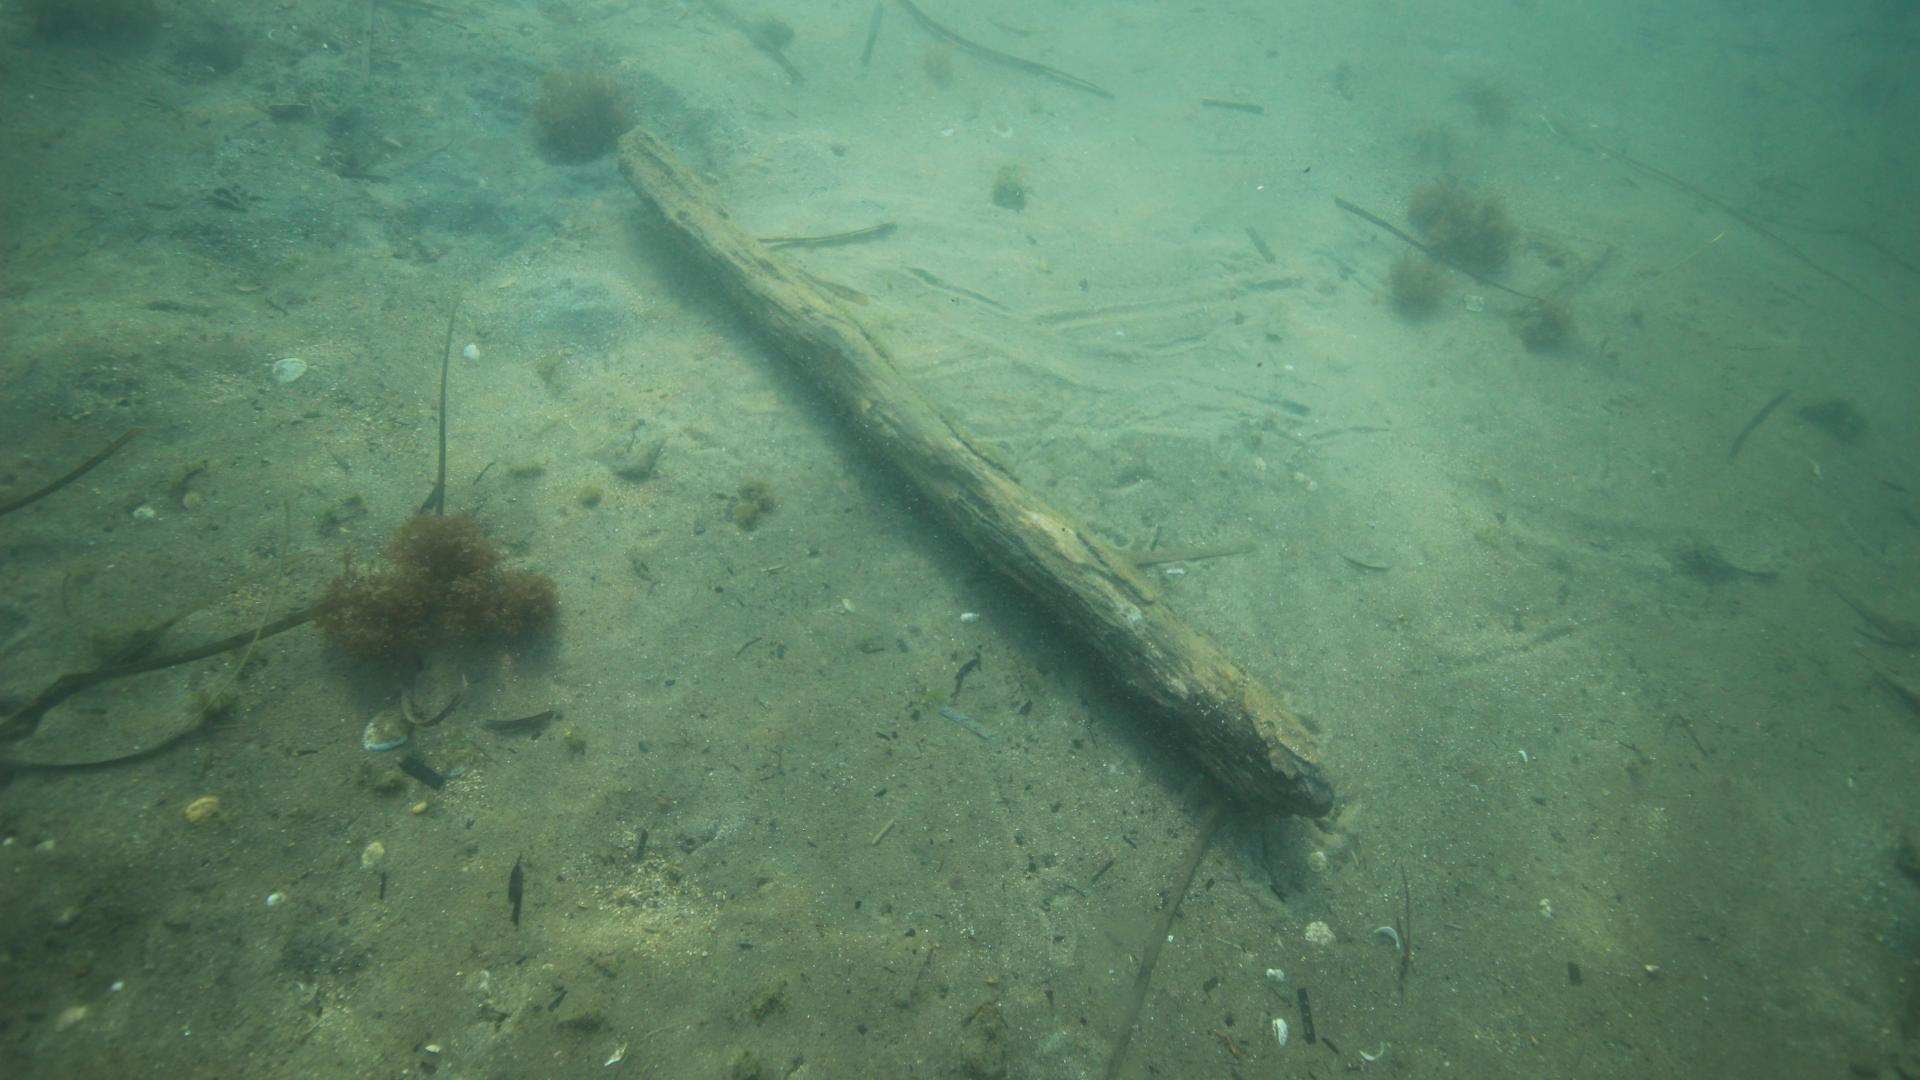wood: (612, 123, 1335, 819)
